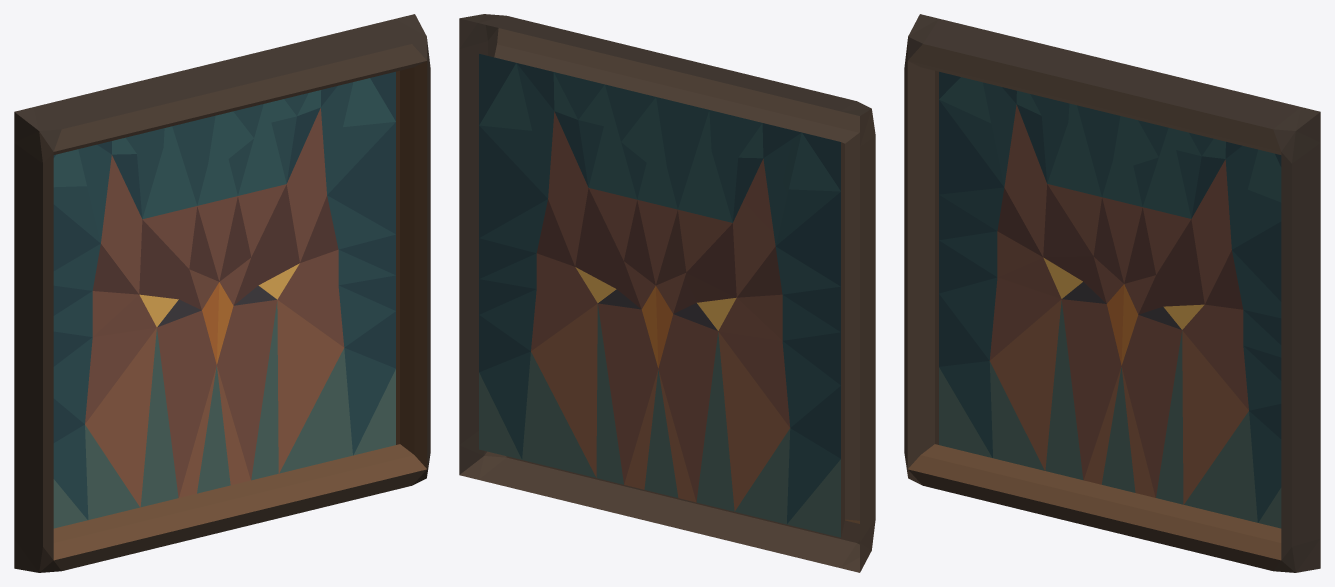
The model's file is painting_big_owl.fbx.
3 renders of one model, left to right at view 1: azimuth 30°, elevation 25°; view 2: azimuth 150°, elevation 25°; view 3: azimuth 330°, elevation 25°, orthographic.
Parts seen in each view (by area): view 1: painting_big_owl; view 2: painting_big_owl; view 3: painting_big_owl.
Boxes of the visible parts, x1=… form: painting_big_owl: x1=14, y1=14, x2=430, y2=572; painting_big_owl: x1=459, y1=14, x2=875, y2=572; painting_big_owl: x1=904, y1=14, x2=1320, y2=572.
Bounding box in the file's own units: 113 × 123 × 12.63.
